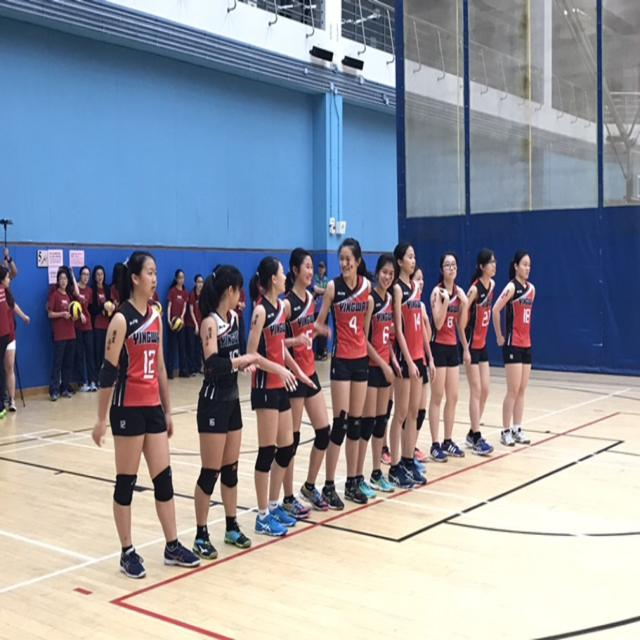body: (88, 249, 201, 580), (189, 264, 252, 560), (311, 237, 372, 505), (277, 246, 332, 522), (244, 256, 297, 539), (387, 239, 437, 491), (356, 250, 403, 500), (490, 247, 536, 446), (428, 250, 468, 464), (457, 245, 497, 458), (400, 261, 432, 465), (46, 268, 82, 401), (0, 265, 31, 413), (48, 268, 78, 404), (0, 246, 18, 416), (75, 264, 98, 393), (166, 267, 190, 380), (91, 263, 112, 384), (310, 260, 329, 362), (187, 272, 205, 378), (233, 284, 247, 355), (109, 262, 128, 310)
